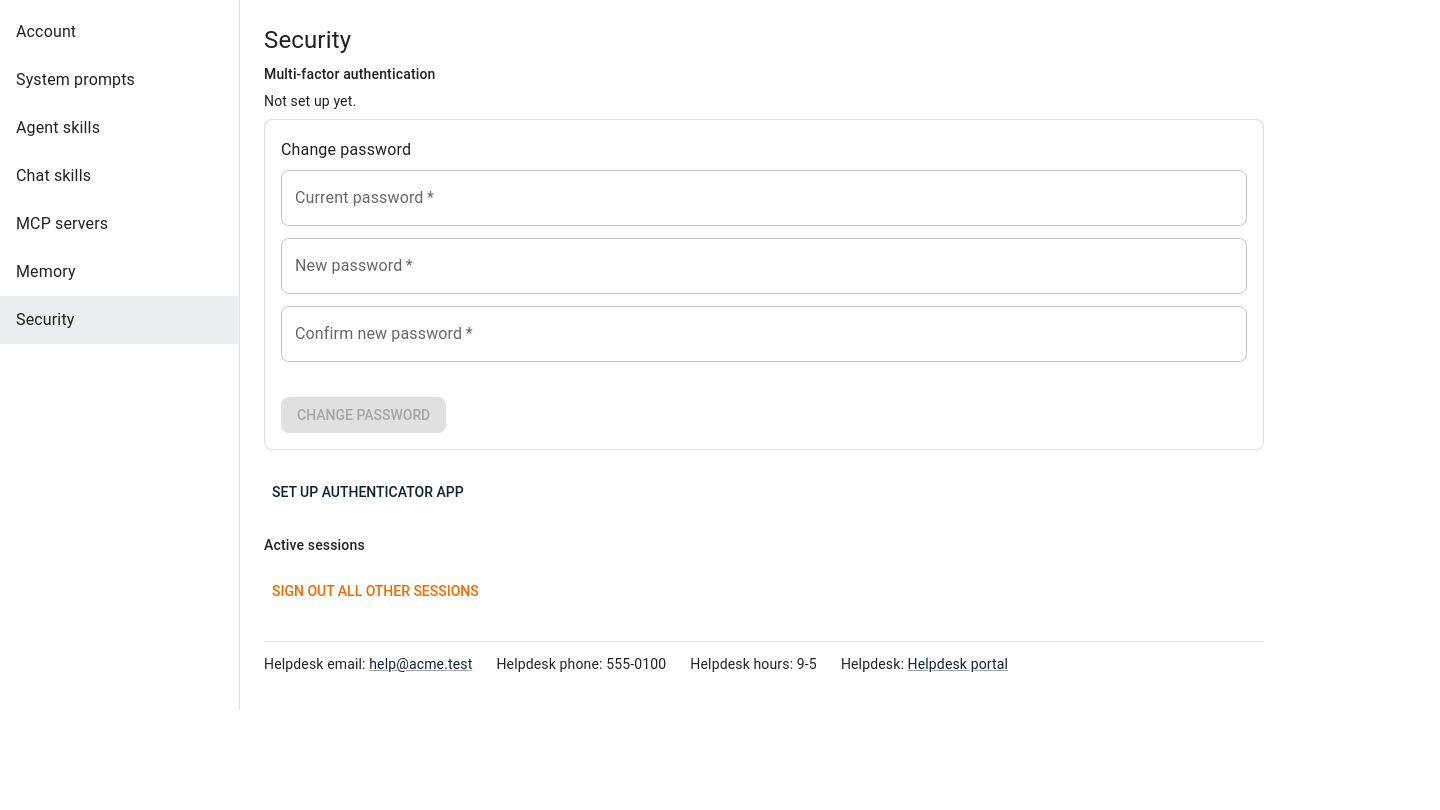
it: change password (profile → Security) › lets a local user change their password after confirming it
The width and height of the screenshot is (1440, 810).
Type "old-password-1" into the password field labelled "Current password *" at (764, 198), box [281,170,1247,226]
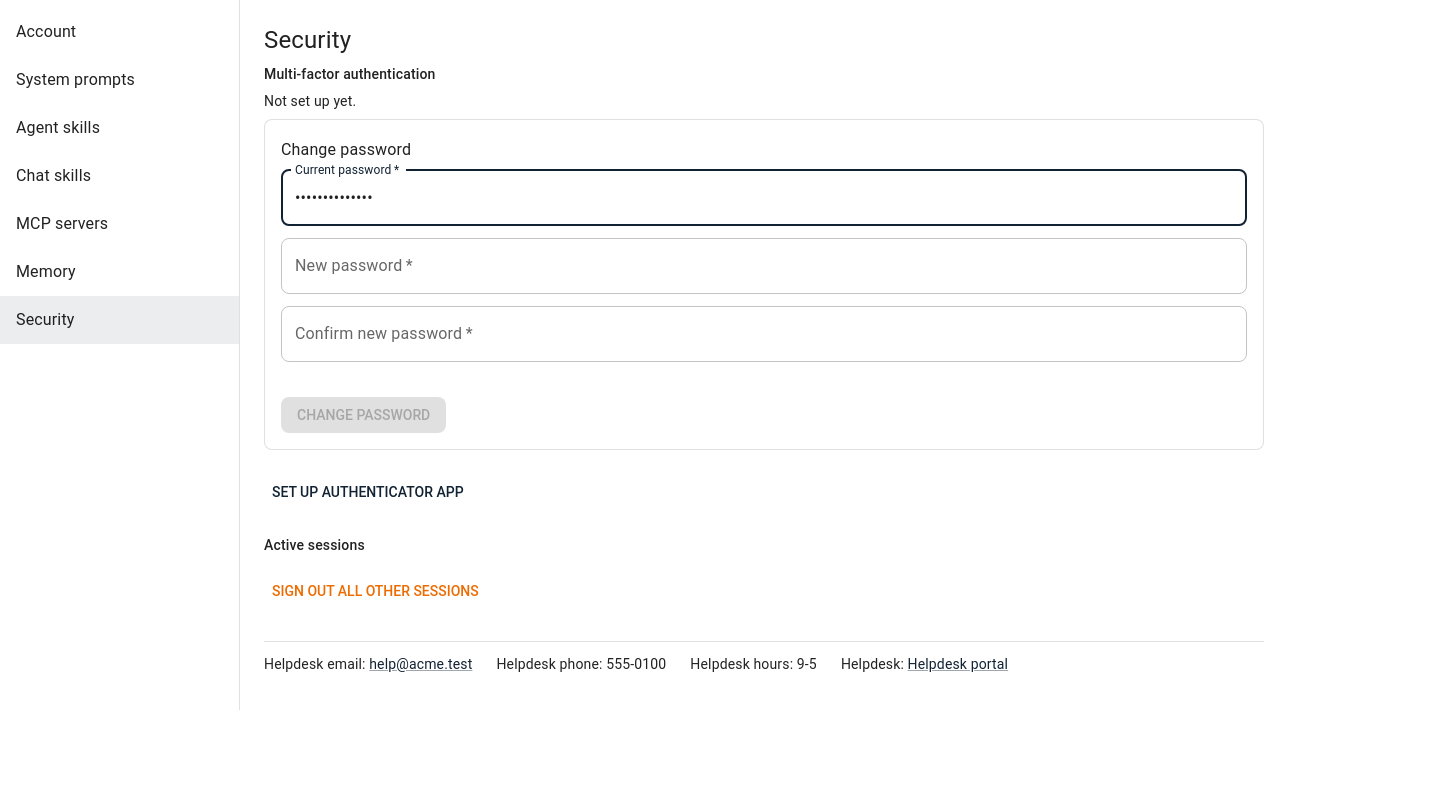
Type "brand-new-pass-2" into the password field labelled "New password *" at (764, 266), box [281,238,1247,294]
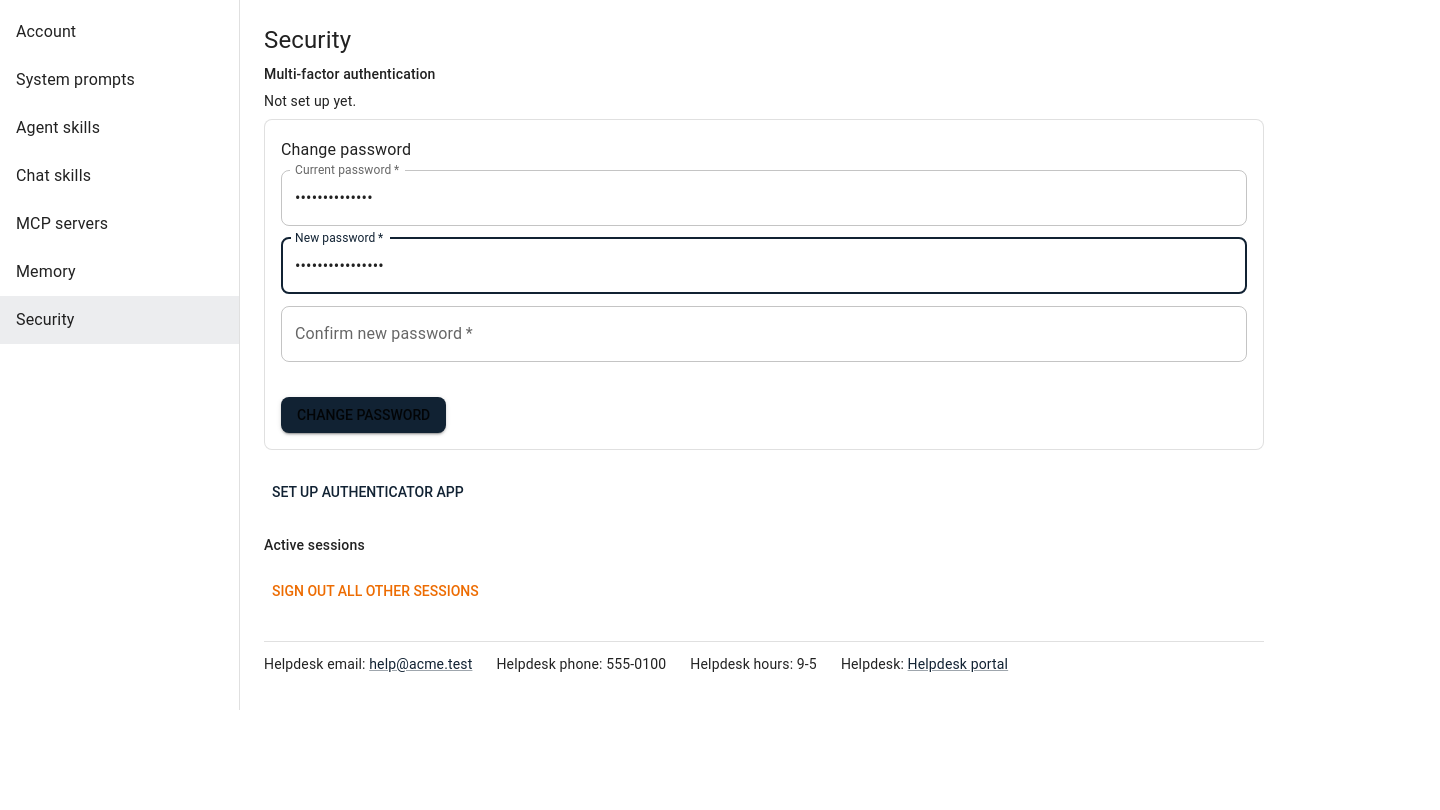
Type "brand-new-pass-X" into the password field labelled "Confirm new password *" at (764, 334), box [281,306,1247,362]
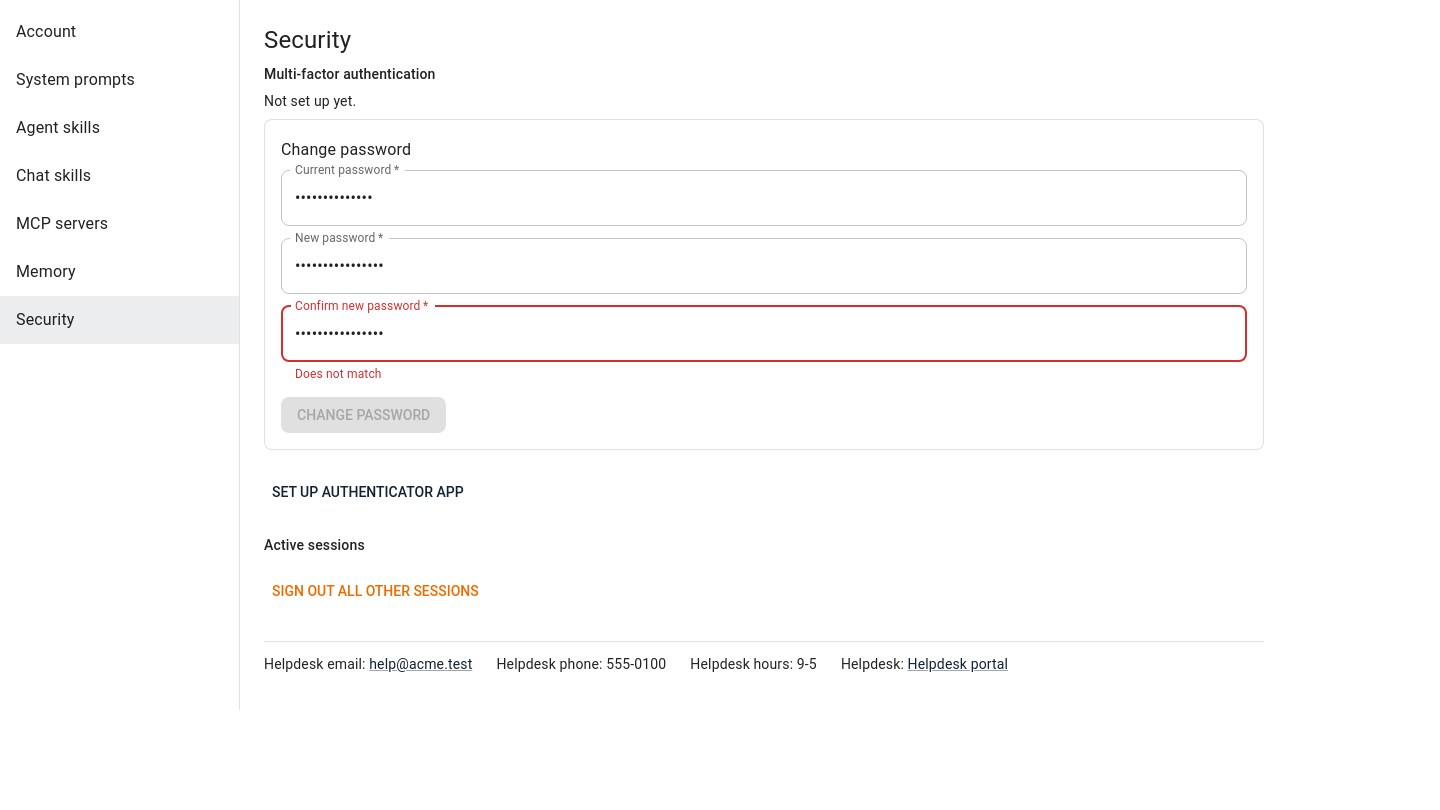
Now the text "Does not match" is shown, box [295,367,382,381]
Now the button "Change password" is disabled, box [281,397,446,433]
Type "brand-new-pass-2" into the password field labelled "Confirm new password *" at (764, 334), box [281,306,1247,362]
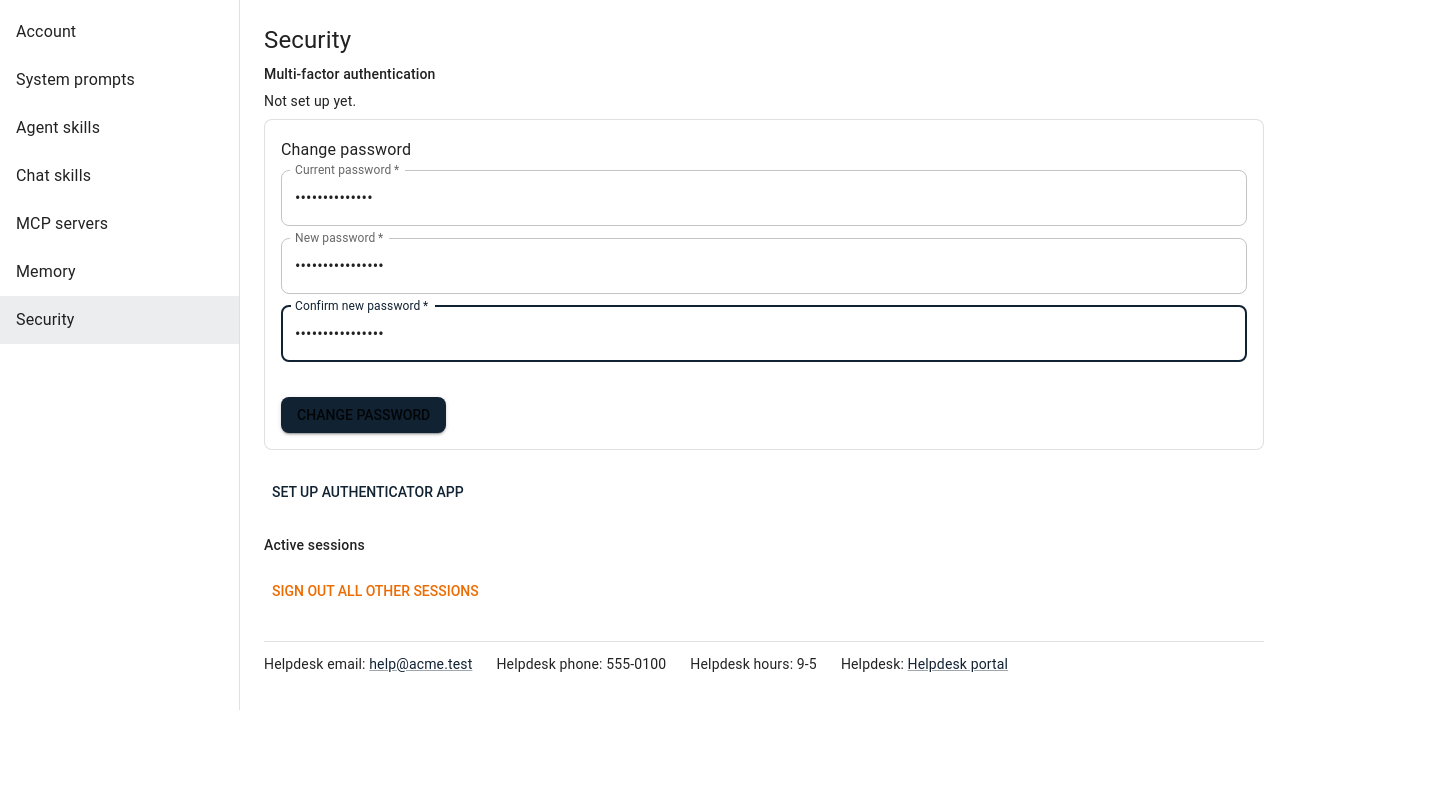
Click the button "Change password" at (364, 415), box [281,397,446,433]
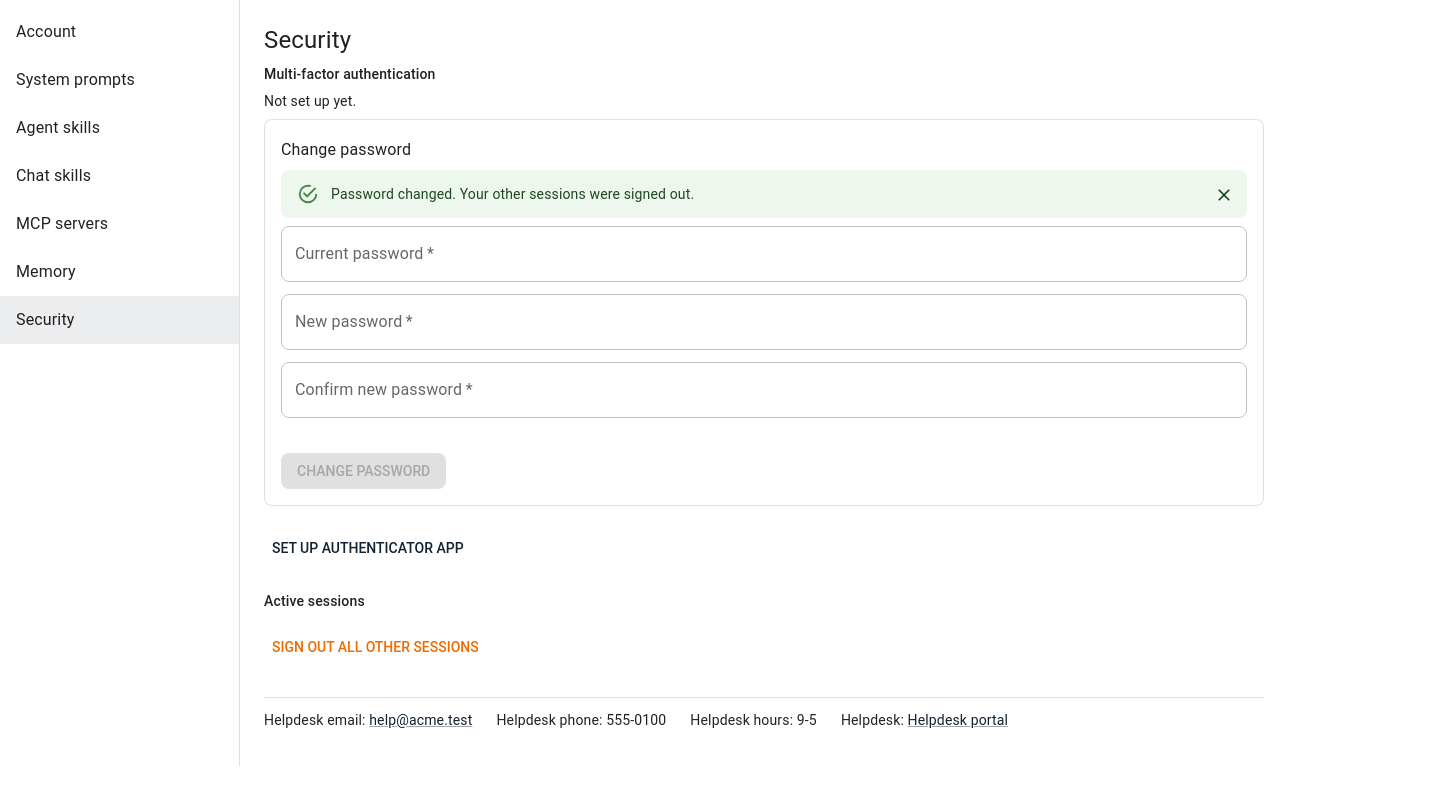
Now the text "Password changed. Your other sessions were signed out." is shown, box [331,186,694,202]
Now the password field labelled "Current password *" is empty, box [281,226,1247,282]
